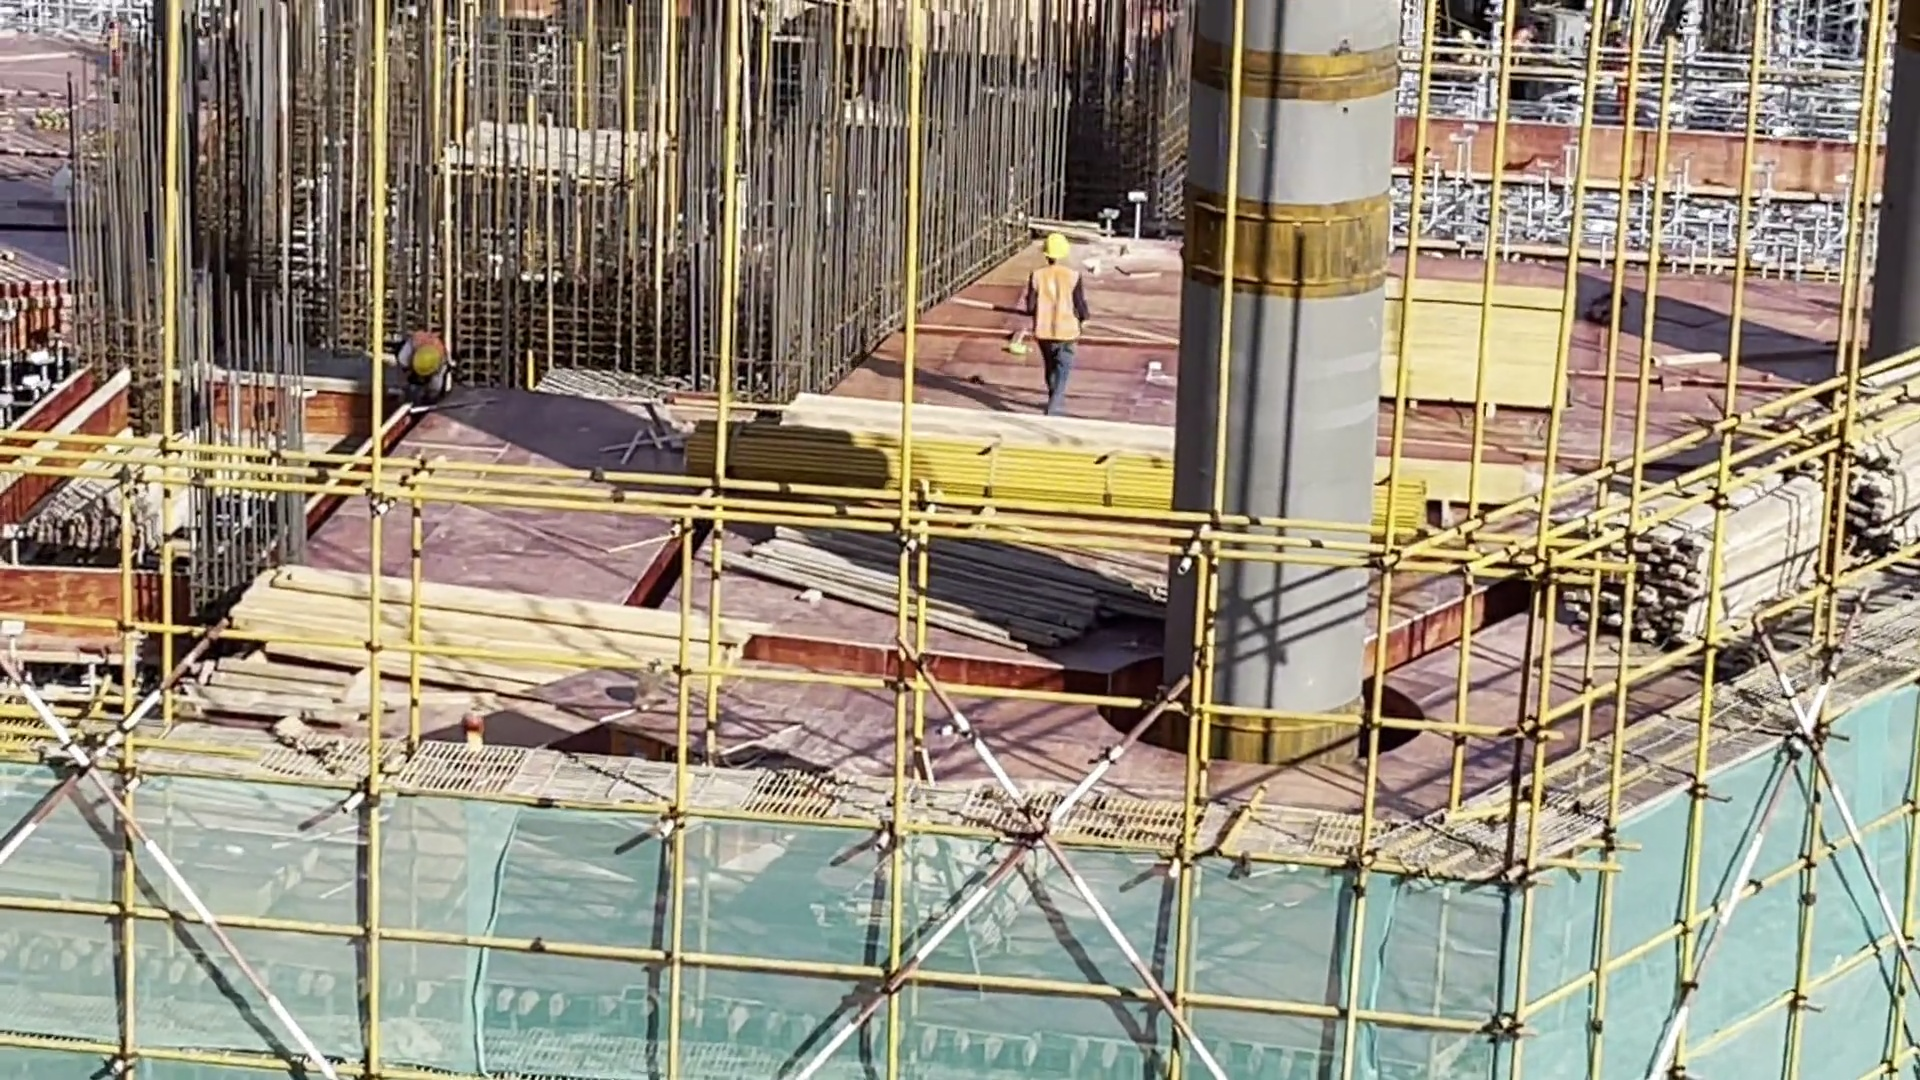board: (1368, 251, 1575, 427)
helmet: (1031, 231, 1076, 274), (412, 341, 447, 390)
person: (1019, 222, 1102, 411), (397, 323, 451, 405), (1513, 11, 1548, 69)
vest: (1032, 267, 1088, 347)
wood: (227, 544, 733, 723), (1558, 471, 1822, 656), (1823, 409, 1920, 584)
